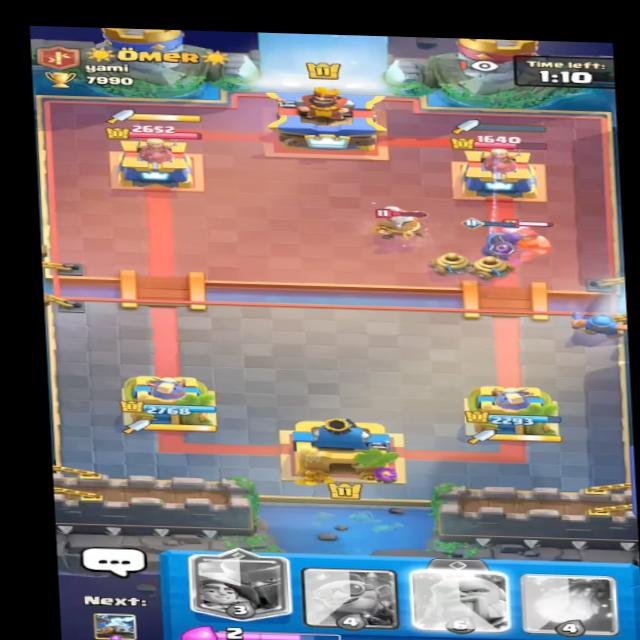lumberjack: (491, 217, 571, 259)
monk: (364, 202, 437, 243)
